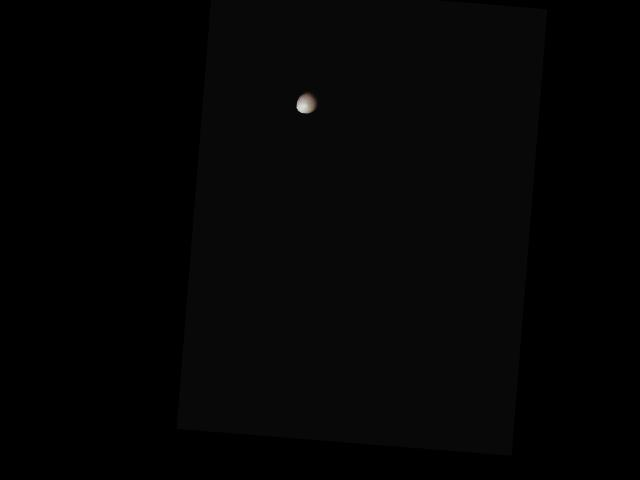egg: (295, 89, 320, 114)
